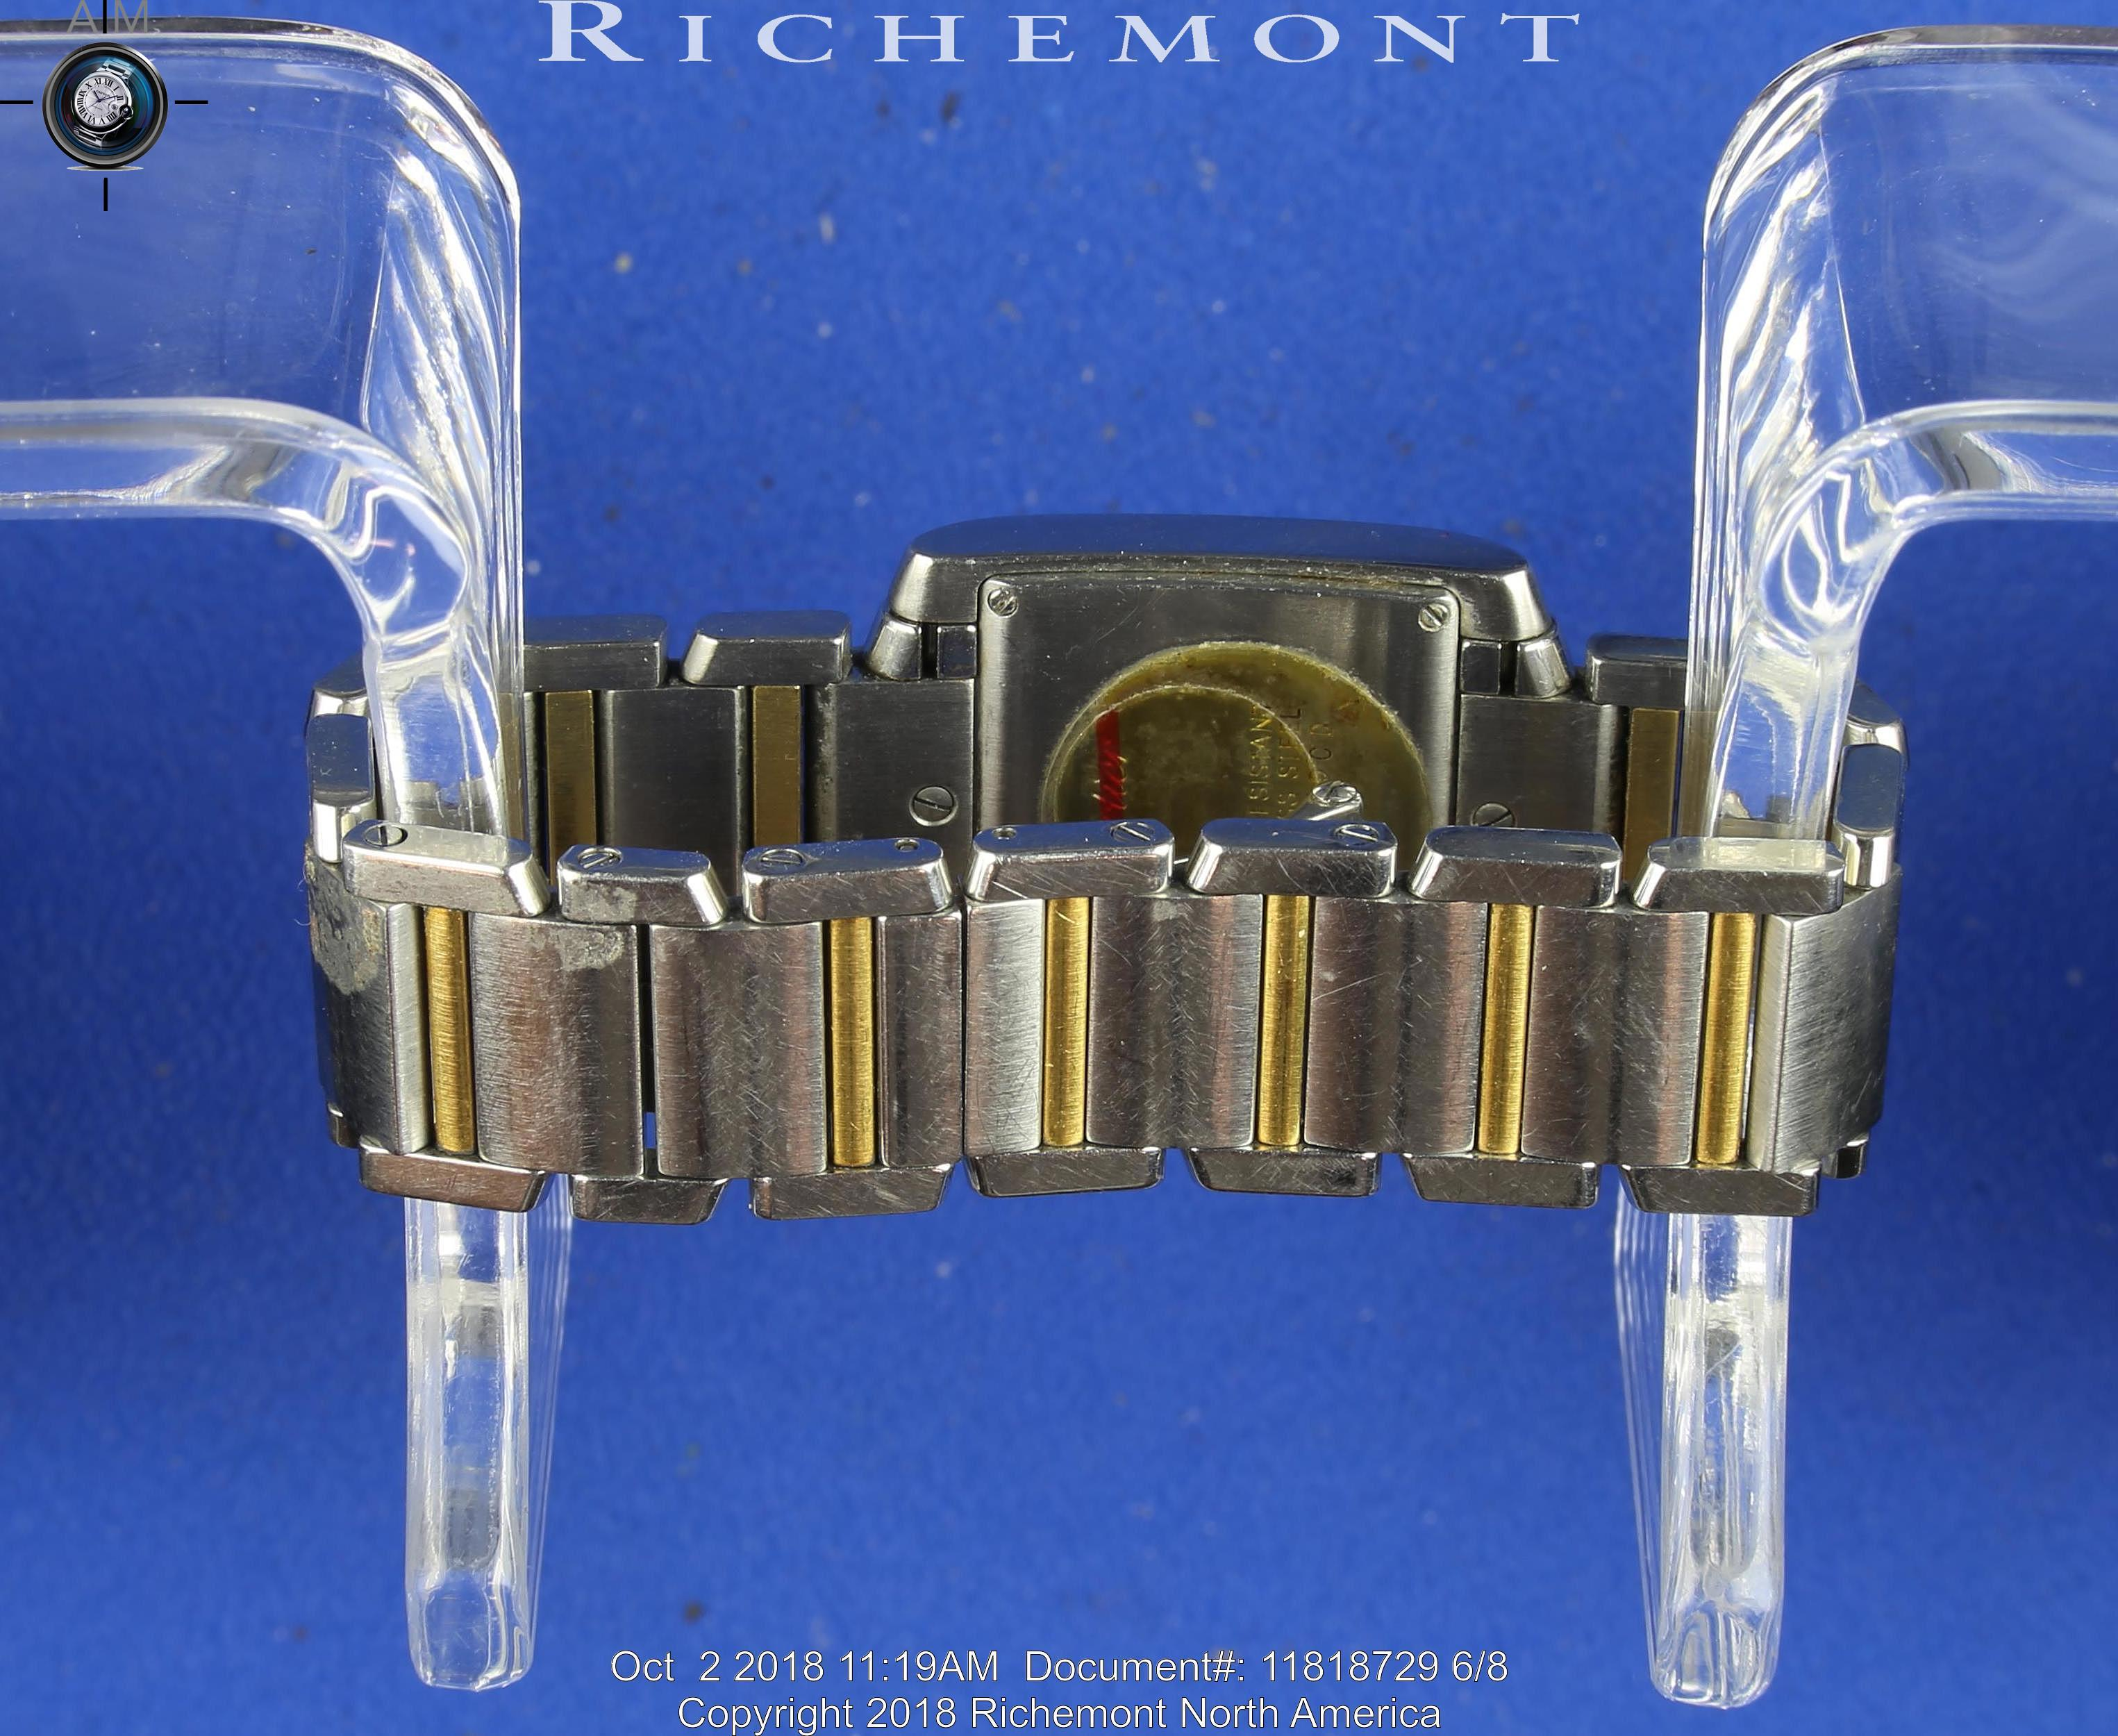watchback: (890, 535, 1601, 1038)
